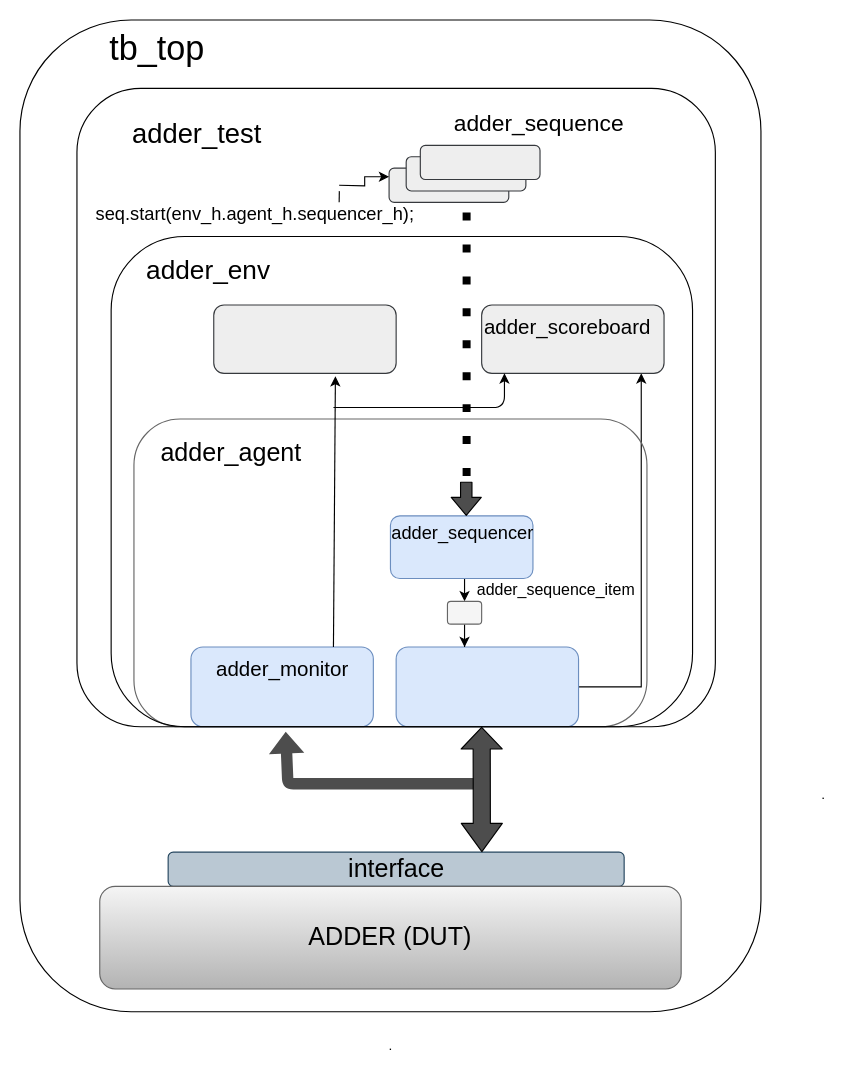
The diagram is 866 pixels wide and 1077 high, and some of its shapes have lost their labels. Here are the shapes that lost their labels. From the top down, the centre of each, then its label:
the point at 304,338: adder_coverage
the point at 487,686: adder_driver
